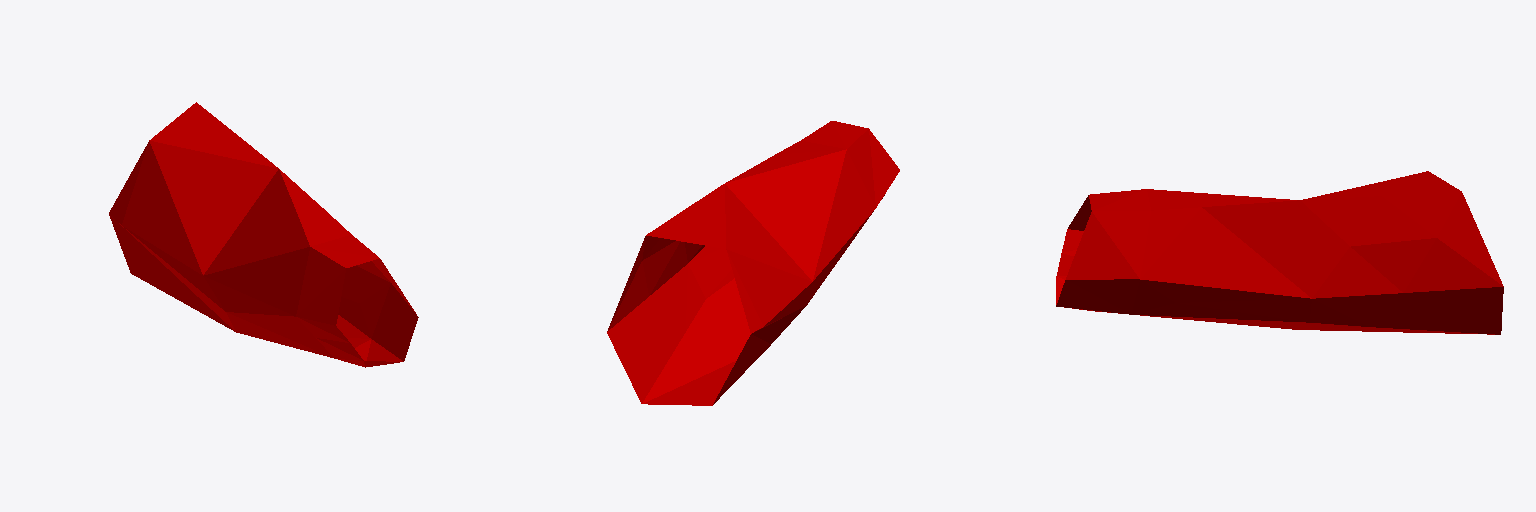
File: leg-right.obj
3 views of the same model, side by side, from view 1: azimuth 30°, elevation 25°; view 2: azimuth 150°, elevation 25°; view 3: azimuth 270°, elevation 25° (orthographic).
Parts seen in each view (by area): view 1: leg_right.001_Superhot_Enemy_Stl.032; view 2: leg_right.001_Superhot_Enemy_Stl.032; view 3: leg_right.001_Superhot_Enemy_Stl.032.
Boxes of the visible parts, x1=… form: leg_right.001_Superhot_Enemy_Stl.032: x1=109, y1=102, x2=418, y2=367; leg_right.001_Superhot_Enemy_Stl.032: x1=607, y1=121, x2=899, y2=405; leg_right.001_Superhot_Enemy_Stl.032: x1=1056, y1=171, x2=1503, y2=334.
Bounding box in the file's own units: 15.09 × 17.62 × 44.9.